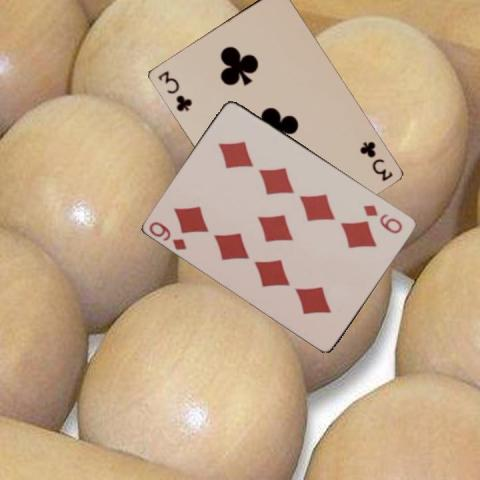3c: (155, 68, 193, 114), (357, 138, 393, 183)
9d: (360, 202, 405, 236), (146, 218, 189, 251)
